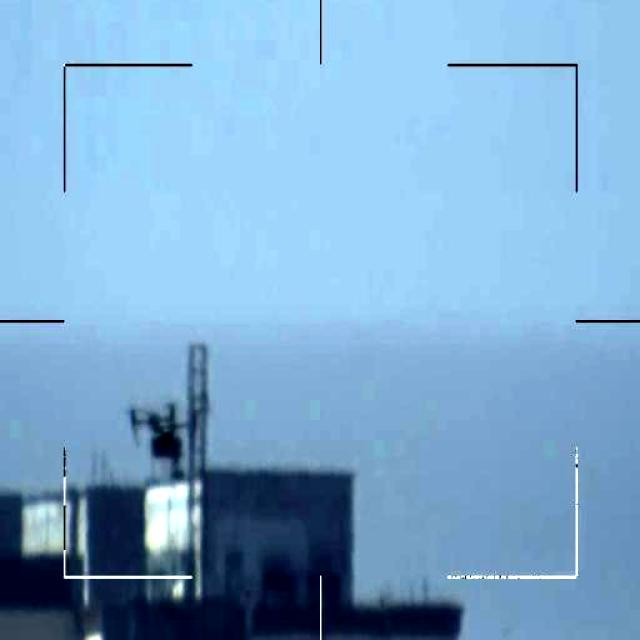bird: (131, 395, 204, 490)
